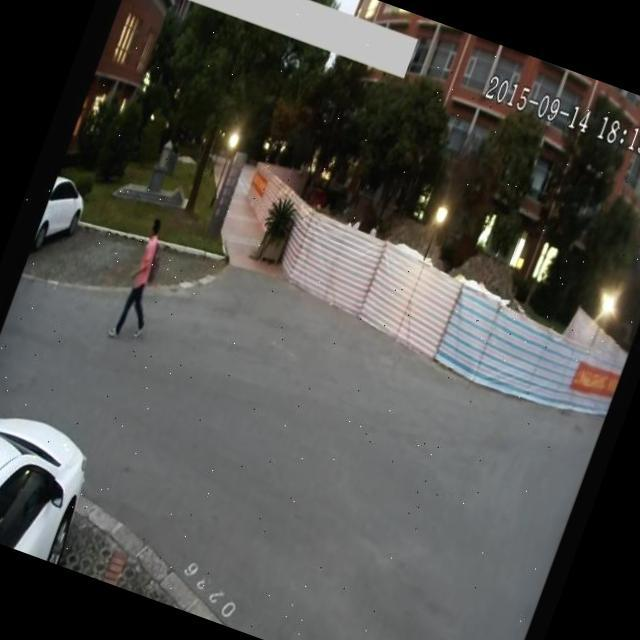person: (98, 208, 186, 353)
